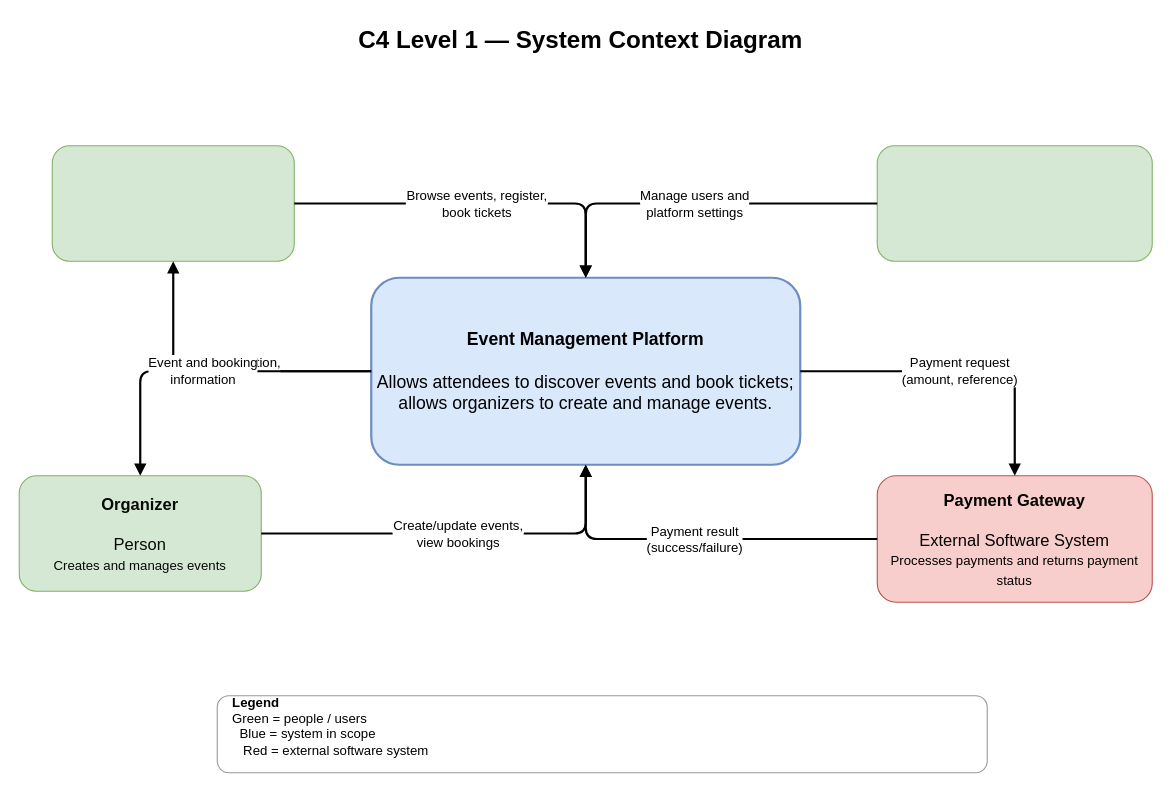
Some shapes in this 1172 by 792 pixel diagram are drawn without their labels. Here are the shapes that lost their labels. From the top down, the box of each, then its label:
(51, 145, 294, 261): Attendee Person Browses events and books tickets
(876, 145, 1152, 261): Administrator Person Manages users and platform operations
